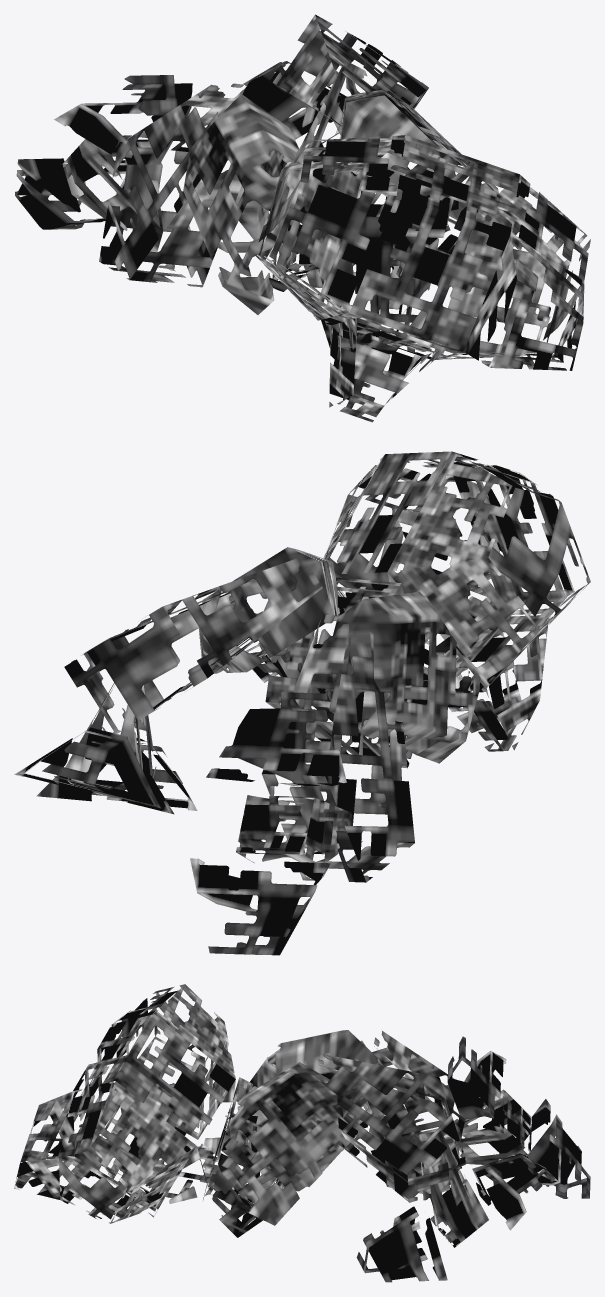
File: laohu_wreck_forward.glb
The picture shows the model from 3 angles, top to bottom: view 1: azimuth 30°, elevation 25°; view 2: azimuth 150°, elevation 25°; view 3: azimuth 270°, elevation 25°; orthographic projection. The views are drawn at different scales.
Parts seen in each view (by area): view 1: joint_rotoe01; view 2: joint_rotoe01; view 3: joint_rotoe01.
Boxes of the visible parts, x1,y1,x2,y2 form: joint_rotoe01: (15, 14, 590, 422); joint_rotoe01: (14, 451, 590, 955); joint_rotoe01: (14, 984, 590, 1282).
Size of the model in its own units: 5.98 by 4.62 by 11.17.
Materials: 1 (1 with a texture image).
